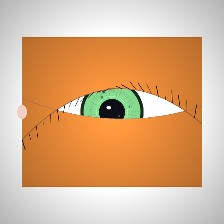pinguecula_lesion: (160, 90, 199, 121)
